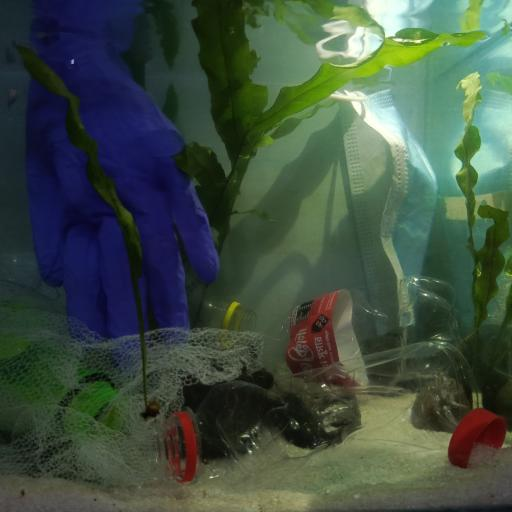bottle_cap: (447, 406, 507, 472)
glove: (21, 28, 218, 362)
mask: (325, 84, 439, 343)
net: (0, 306, 265, 492)
plastic_bottle: (155, 336, 476, 481), (270, 279, 466, 392), (0, 332, 129, 440), (200, 294, 260, 332)
